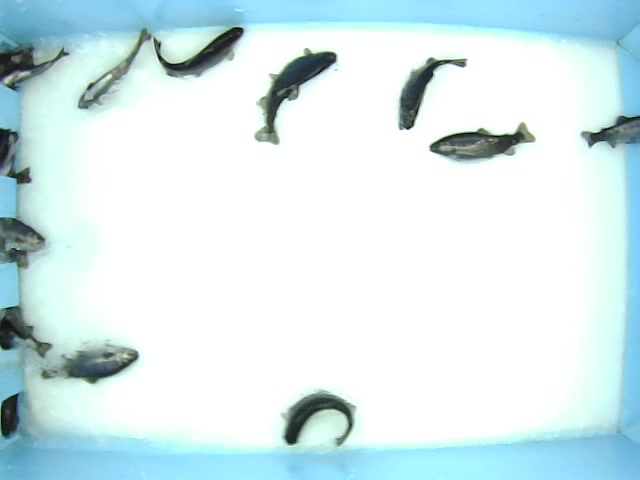fish: (254, 46, 340, 145), (75, 25, 153, 111), (395, 56, 469, 133), (151, 23, 246, 82), (280, 389, 359, 448), (428, 122, 537, 163), (39, 343, 141, 385)
